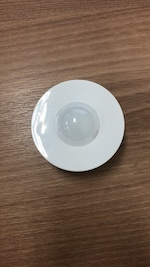bulb: (30, 79, 127, 173)
